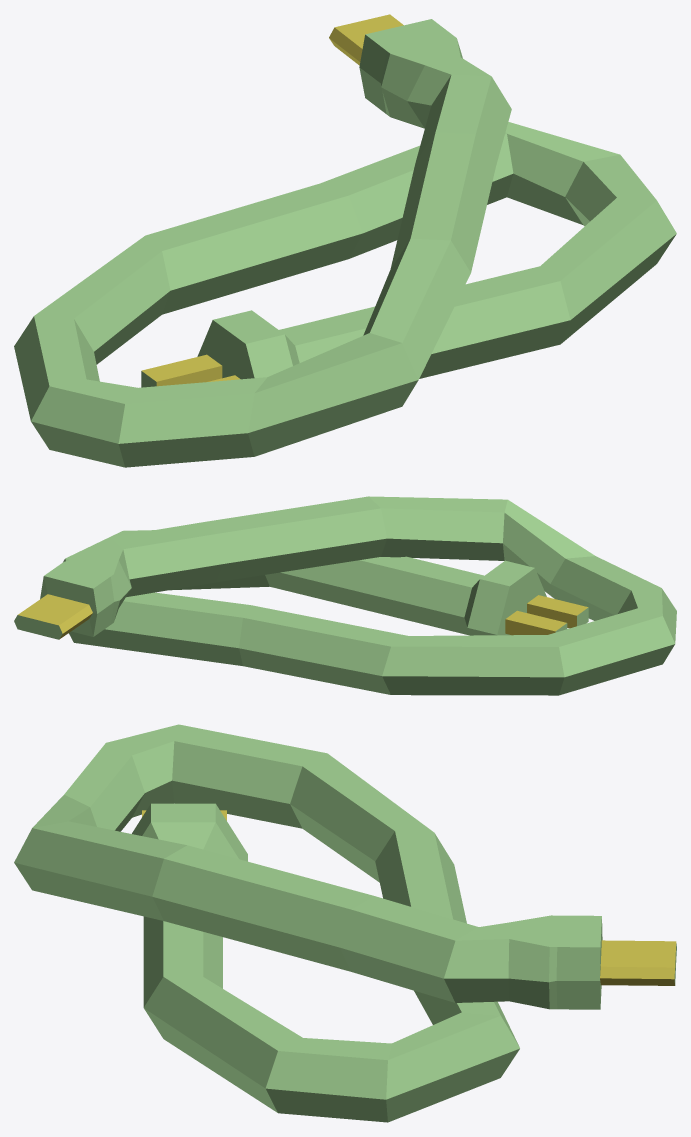
Rendered from Recharger.fbx.
3 renders of one model, top to bottom at view 1: azimuth 30°, elevation 25°; view 2: azimuth 150°, elevation 25°; view 3: azimuth 270°, elevation 25°, orthographic. The views are drawn at different scales.
Parts seen in each view (by area): view 1: Recharger; view 2: Recharger; view 3: Recharger.
Boxes of the visible parts, <box> form: Recharger: <box>14,14,676,467</box>; Recharger: <box>14,496,676,695</box>; Recharger: <box>14,724,676,1122</box>.
Bounding box in the file's own units: 49.71 × 10.64 × 40.86.
